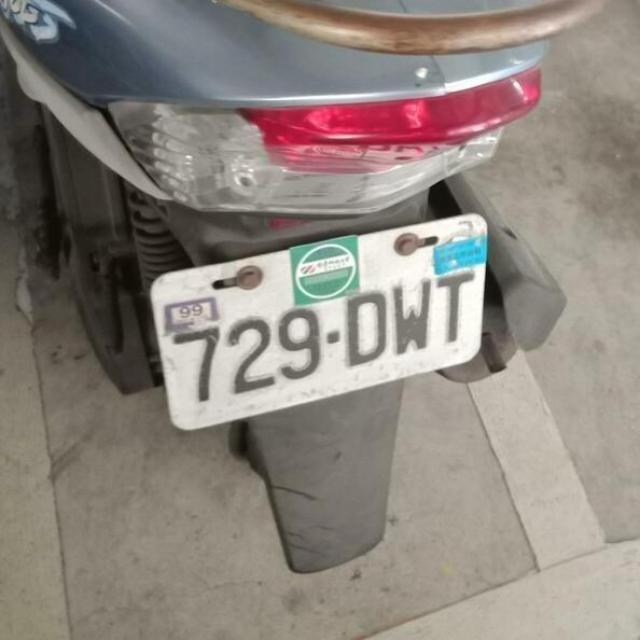W: (128, 204, 506, 447)
